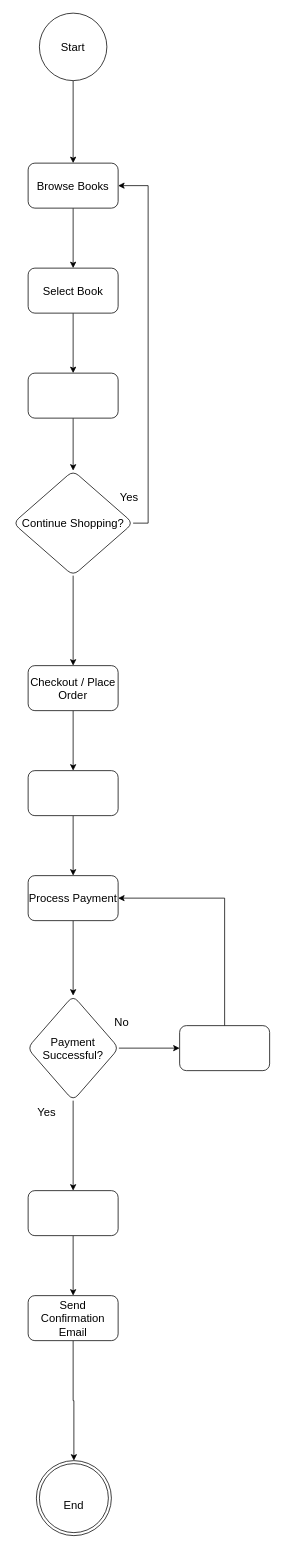
Image size: 283x1549. Some labels were removed from this diagram. The centre of each missing label's shape, as x and y in pixels:
Add to Cart: (x=72, y=395)
Confirm Order: (x=72, y=1213)
Enter Shipping Details: (x=72, y=793)
Retry Paynent: (x=224, y=1048)
